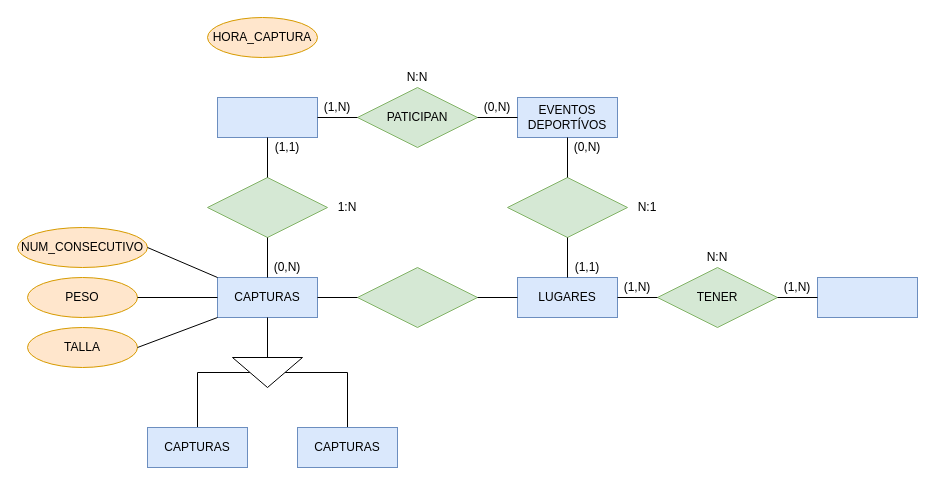
The diagram is 935 pixels wide and 485 high, and some of its shapes have lost their labels. The shapes that lost their labels are listed below. From the top down, each one's centre as x and y in pixels, then its label:
(x=267, y=117): AFILIADOS
(x=267, y=207): HACER
(x=567, y=207): REALIZAR
(x=417, y=297): SER
(x=867, y=297): PECES
